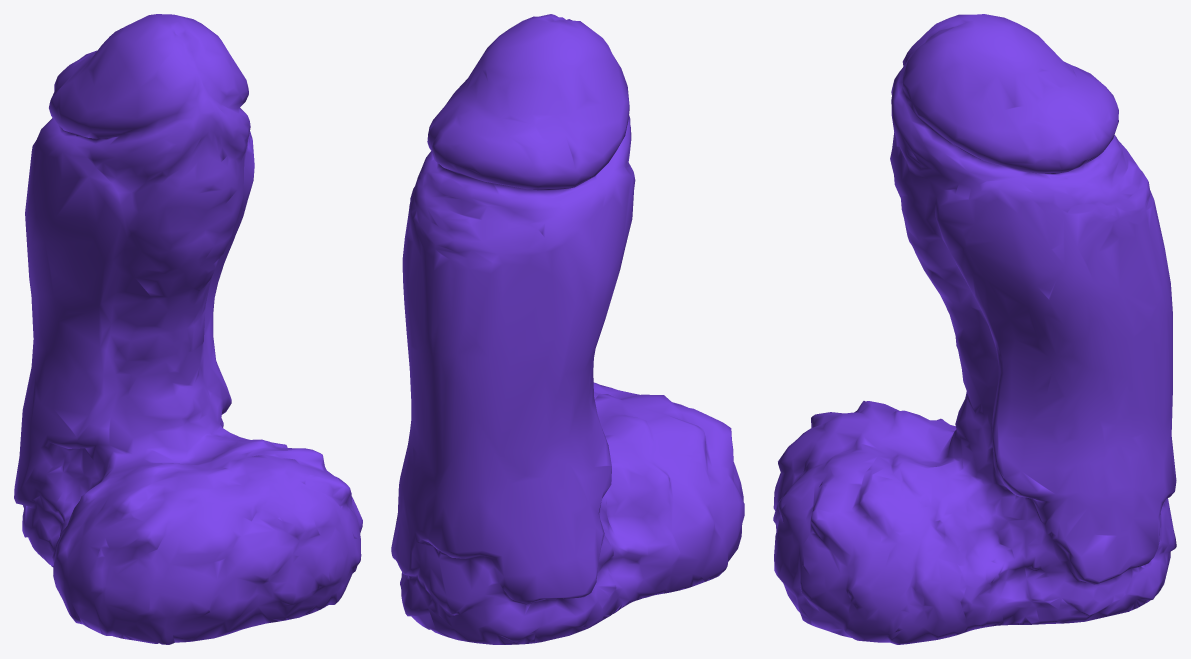
The model's file is small-suction-ar.glb.
3 renders of one model, left to right at view 1: azimuth 30°, elevation 25°; view 2: azimuth 150°, elevation 25°; view 3: azimuth 270°, elevation 25°, orthographic. The views are drawn at different scales.
Bounding box in the file's own units: 0.0798 × 0.1487 × 0.0971.
